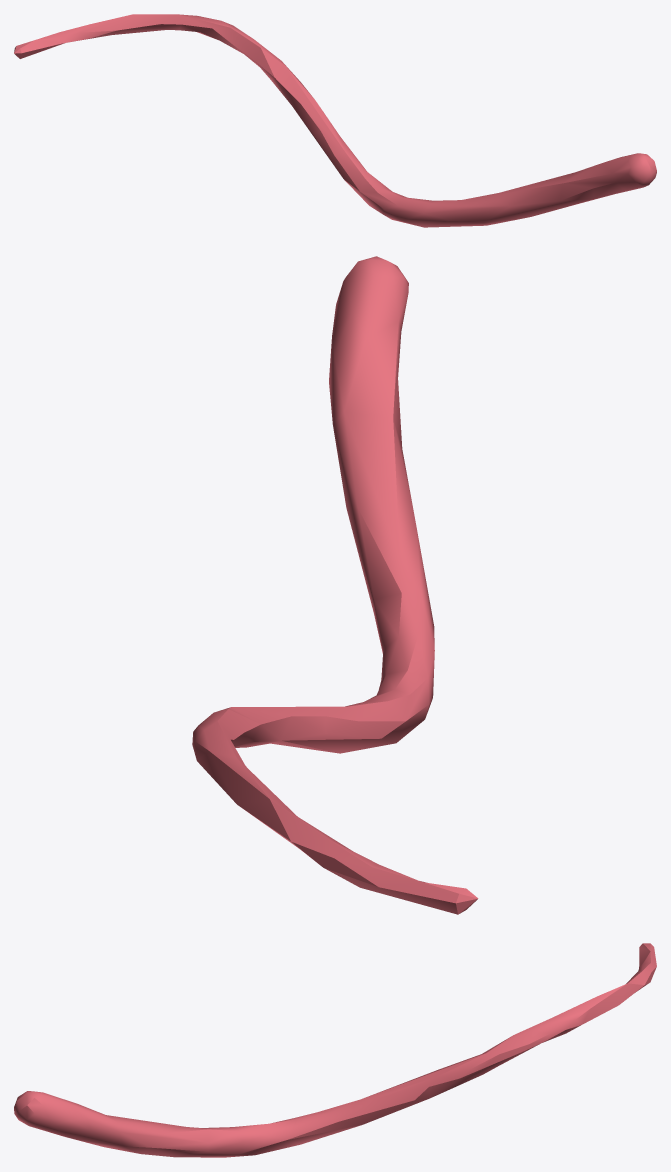
Rendered from fma50520_fj1700m.glb.
The picture shows the model from 3 angles, top to bottom: view 1: azimuth 30°, elevation 25°; view 2: azimuth 150°, elevation 25°; view 3: azimuth 270°, elevation 25°; orthographic projection. The views are drawn at different scales.
Parts seen in each view (by area): view 1: FMA50520_FJ1700M; view 2: FMA50520_FJ1700M; view 3: FMA50520_FJ1700M.
Boxes of the visible parts, bbox=[...] form: FMA50520_FJ1700M: bbox=[14, 14, 656, 227]; FMA50520_FJ1700M: bbox=[192, 256, 478, 914]; FMA50520_FJ1700M: bbox=[14, 943, 656, 1157].
Bounding box in the file's own units: 0.0114 × 0.0036 × 0.0169.
